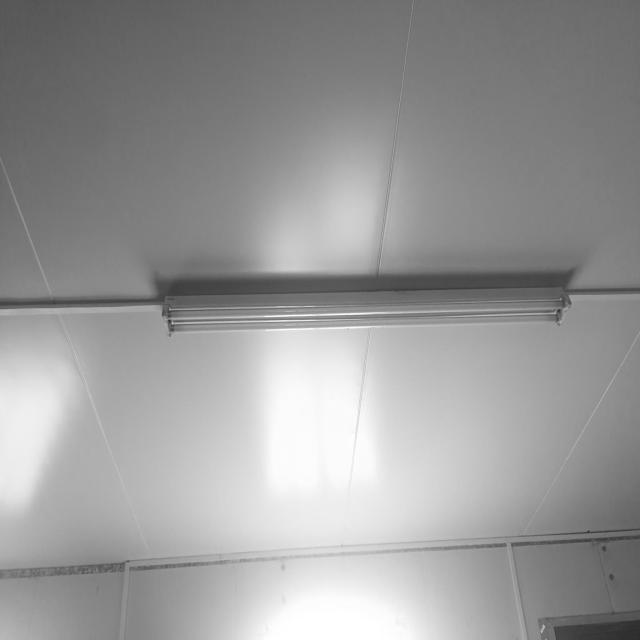light: (161, 286, 572, 336)
